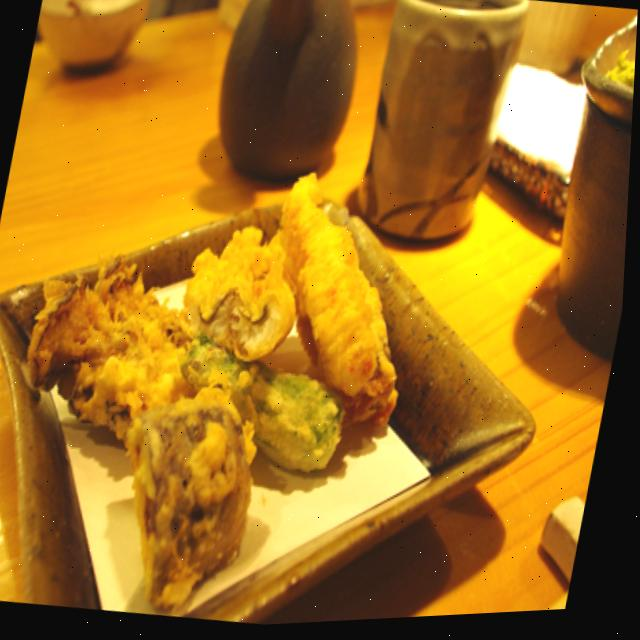蔬菜料理: (0, 75, 498, 640)
